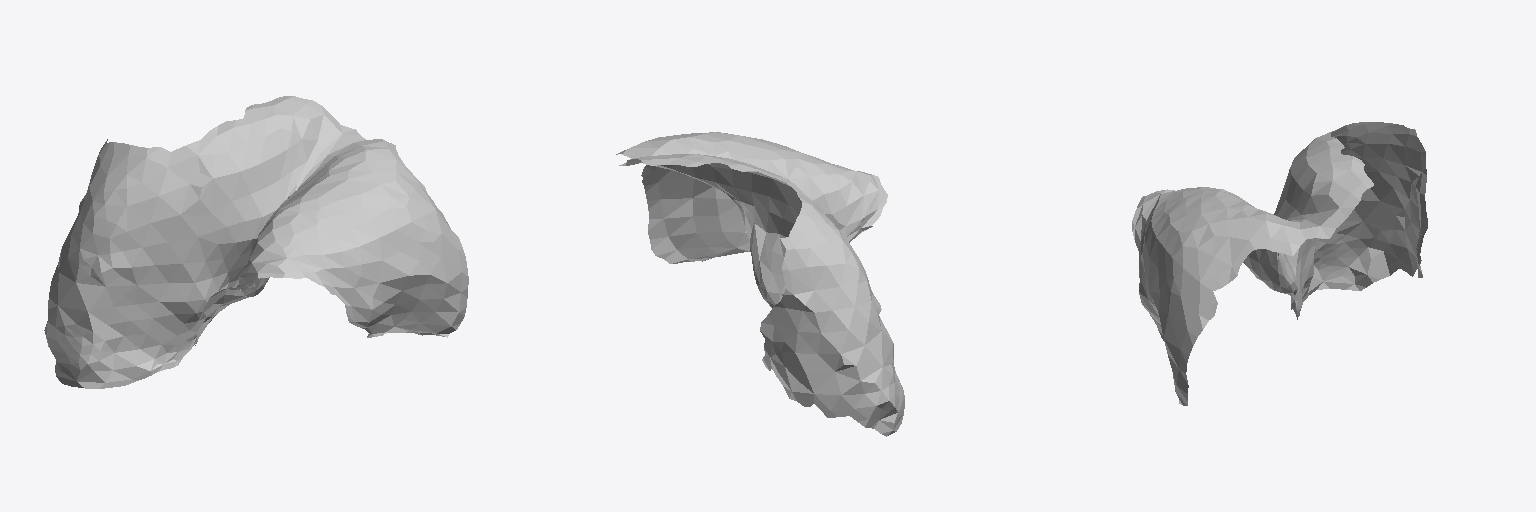
The model's file is R_transverse_frontopolar.obj.
3 renders of one model, left to right at view 1: azimuth 30°, elevation 25°; view 2: azimuth 150°, elevation 25°; view 3: azimuth 270°, elevation 25°, orthographic.
Visible parts, largest first — view 1: R_transerverse_frontopolar_L_transerverse_frontopolar; view 2: R_transerverse_frontopolar_L_transerverse_frontopolar; view 3: R_transerverse_frontopolar_L_transerverse_frontopolar.
Part boxes in pixels (x1,y1,x2,y2): R_transerverse_frontopolar_L_transerverse_frontopolar: (44, 96, 468, 388); R_transerverse_frontopolar_L_transerverse_frontopolar: (616, 132, 904, 436); R_transerverse_frontopolar_L_transerverse_frontopolar: (1132, 122, 1427, 405).
Size of the model in its own units: 78.1 by 50.6 by 60.13.